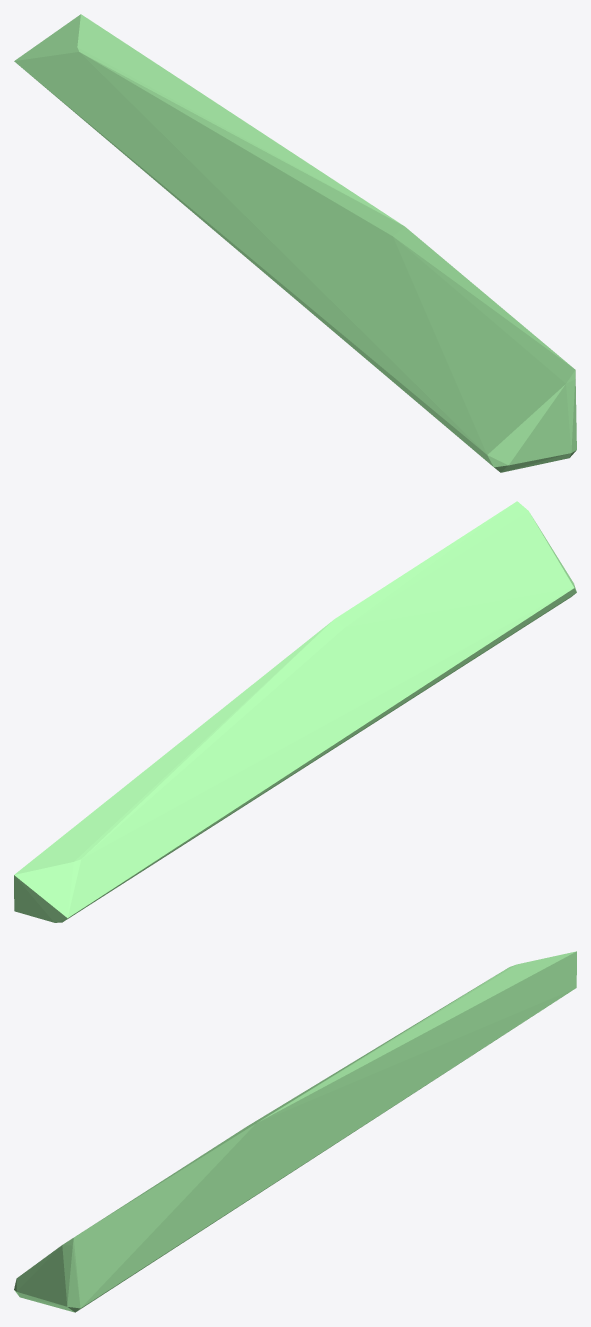
File: dxxx_L2_respondable_PSM1_coll_7.dae
The picture shows the model from 3 angles, top to bottom: view 1: azimuth 30°, elevation 25°; view 2: azimuth 150°, elevation 25°; view 3: azimuth 330°, elevation 25°; orthographic projection. The views are drawn at different scales.
Parts seen in each view (by area): view 1: Node_000001D818CBC4B0; view 2: Node_000001D818CBC4B0; view 3: Node_000001D818CBC4B0.
Boxes of the visible parts, x1,y1,x2,y2 form: Node_000001D818CBC4B0: (14,14,576,472); Node_000001D818CBC4B0: (14,501,576,922); Node_000001D818CBC4B0: (14,951,576,1312).
Size of the model in its own units: 0.055 by 0.0399 by 0.421.
